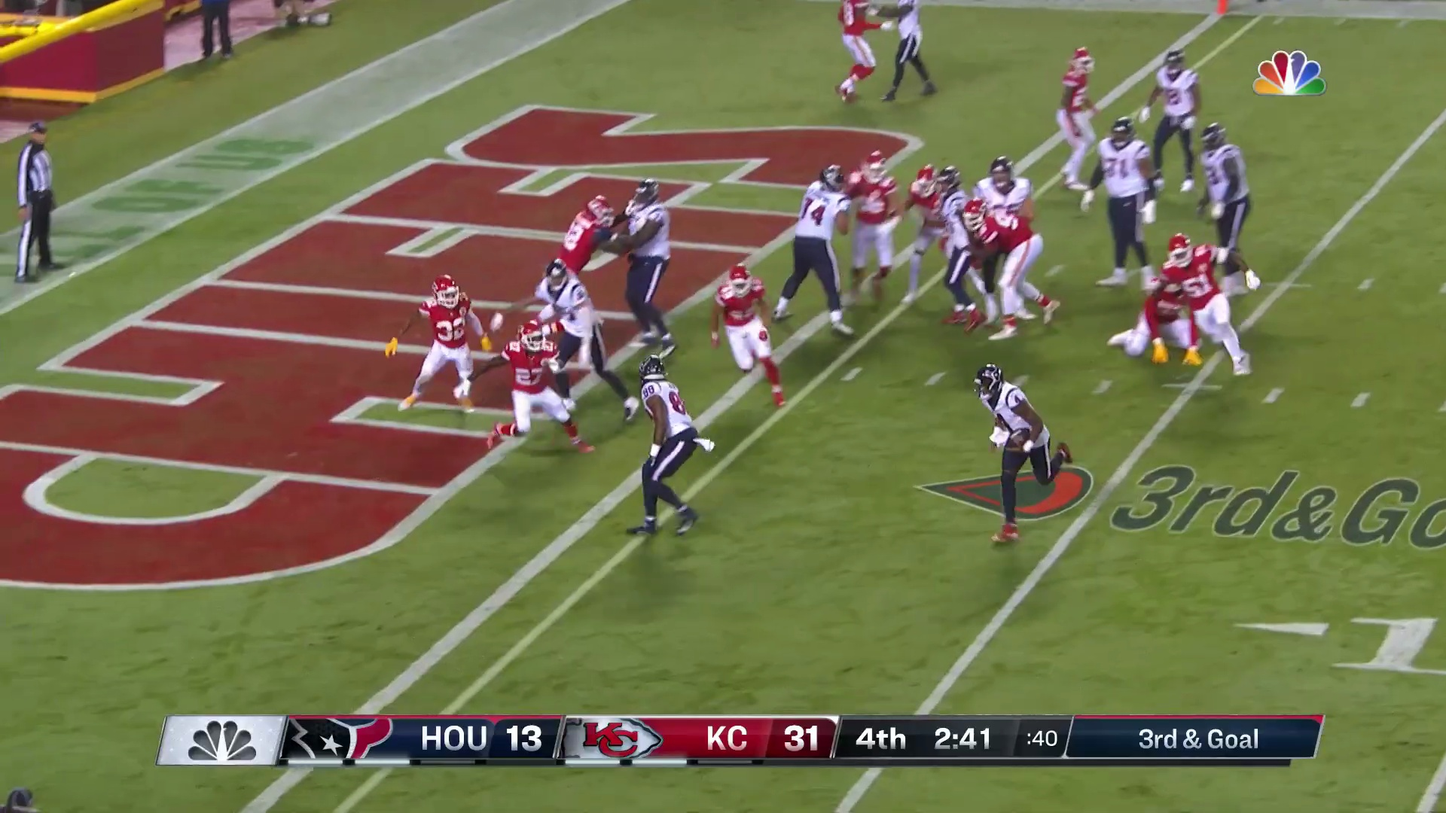Player: (776, 165, 849, 328), (977, 163, 1043, 333), (714, 263, 781, 404), (1100, 118, 1152, 283), (1181, 245, 1248, 371), (537, 259, 595, 400), (625, 177, 671, 345), (1147, 235, 1211, 354), (963, 175, 1011, 330), (850, 152, 900, 298), (506, 316, 567, 434), (1202, 122, 1250, 258), (1153, 48, 1198, 188), (975, 156, 1032, 257), (938, 168, 975, 322), (906, 165, 946, 296), (1059, 47, 1095, 189), (838, 0, 878, 101)
